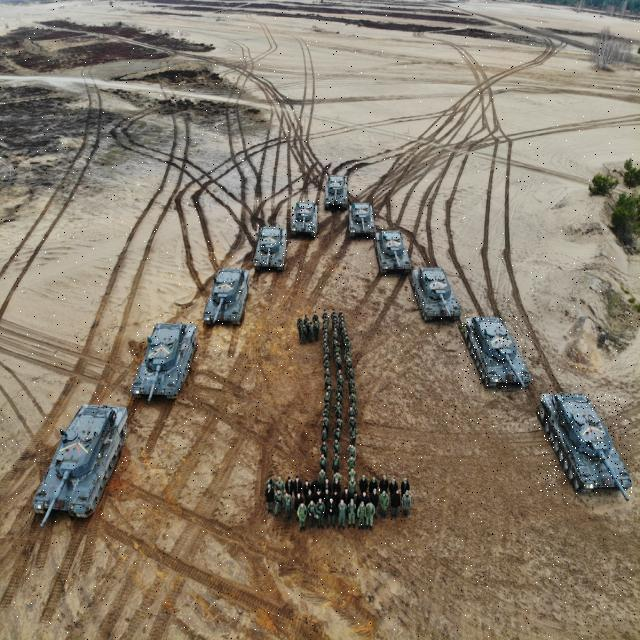MIL_MBT: (33, 404, 128, 520), (538, 393, 632, 496), (457, 316, 533, 389), (130, 322, 199, 402), (410, 267, 462, 322), (203, 268, 251, 326), (374, 229, 413, 274), (254, 225, 287, 272), (290, 200, 319, 238), (349, 202, 376, 238), (324, 175, 350, 209)
